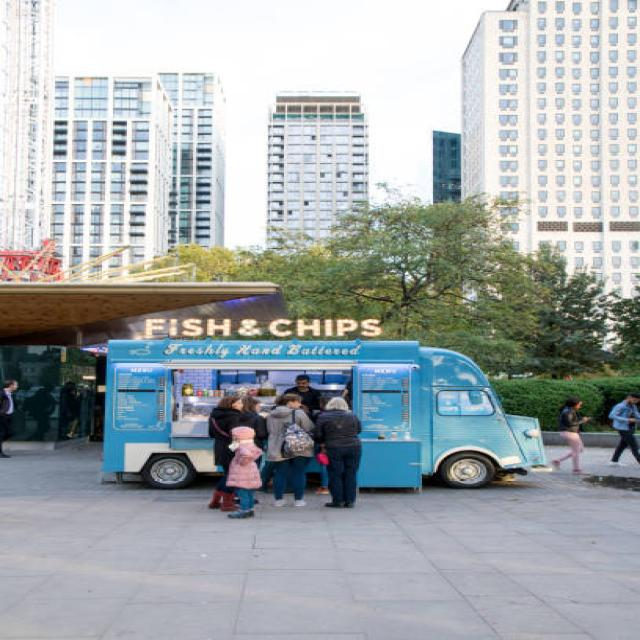Emperan: (67, 306, 558, 528)
